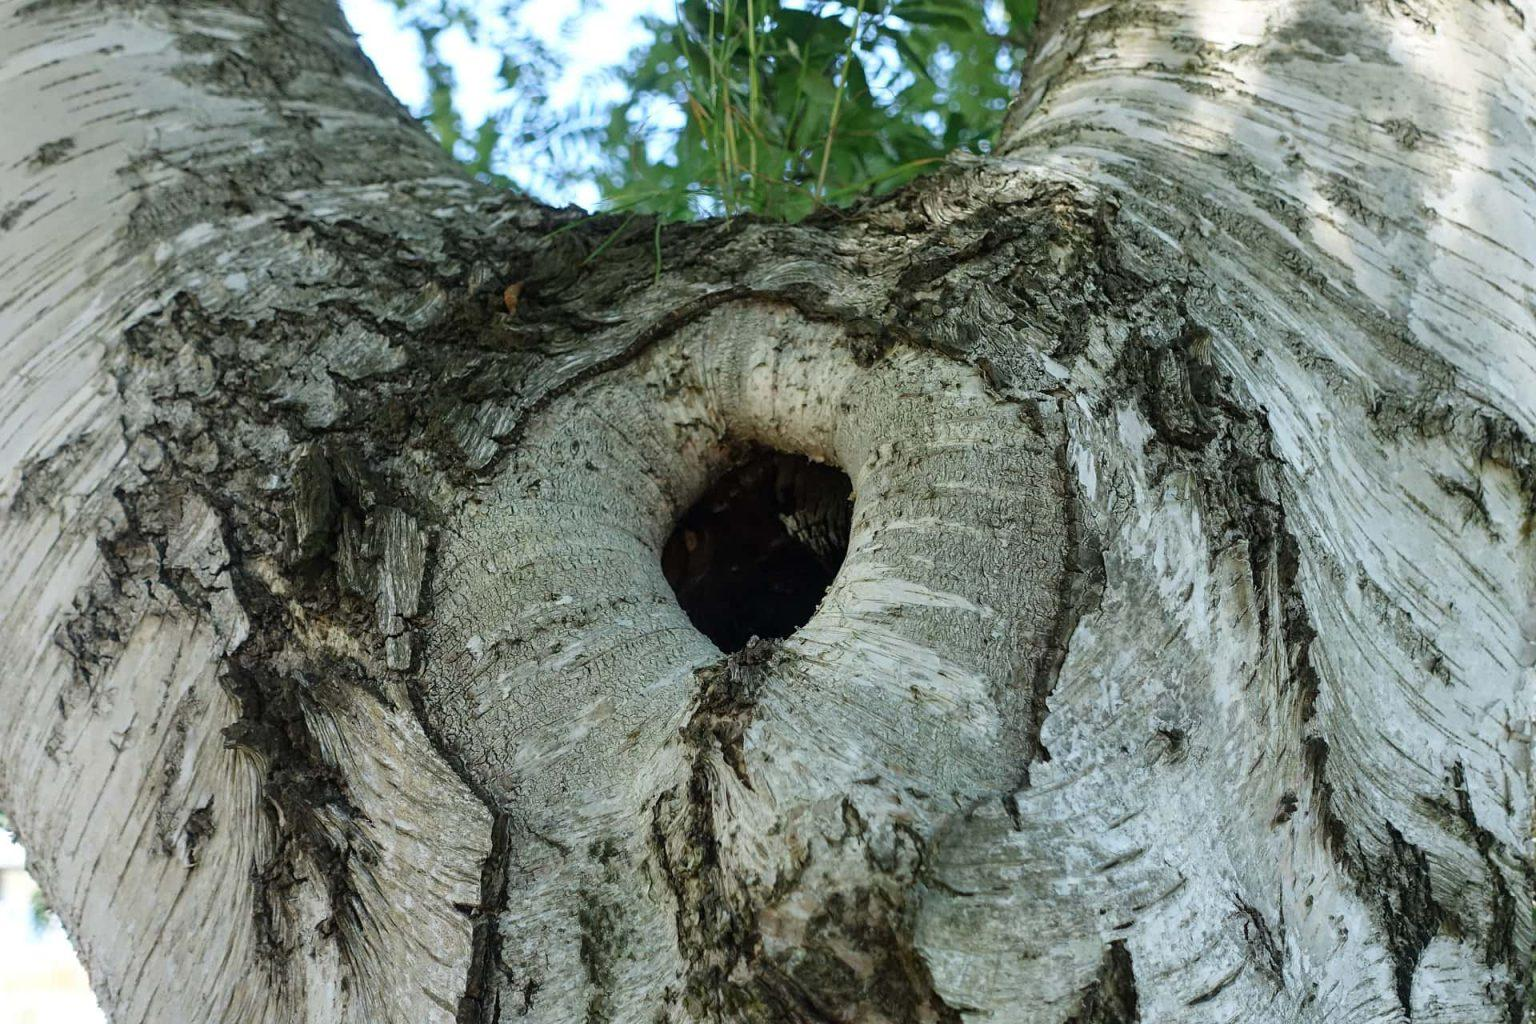hollow: (662, 446, 850, 651)
